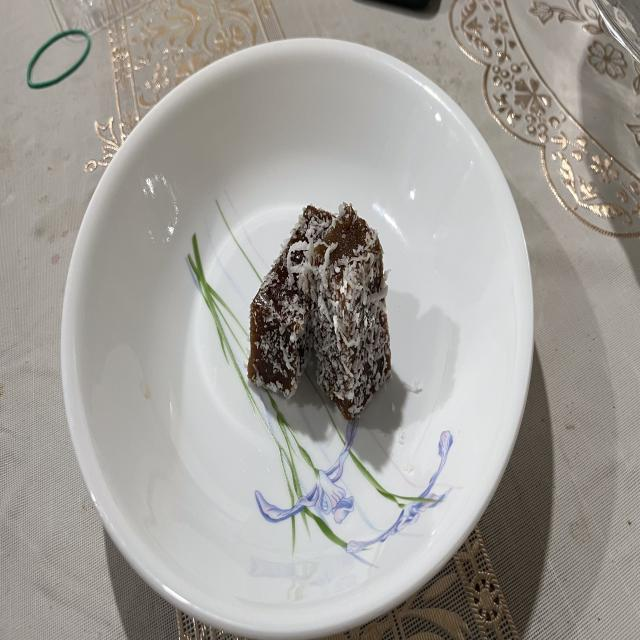kaswi: (303, 202, 393, 423), (247, 201, 335, 402)
